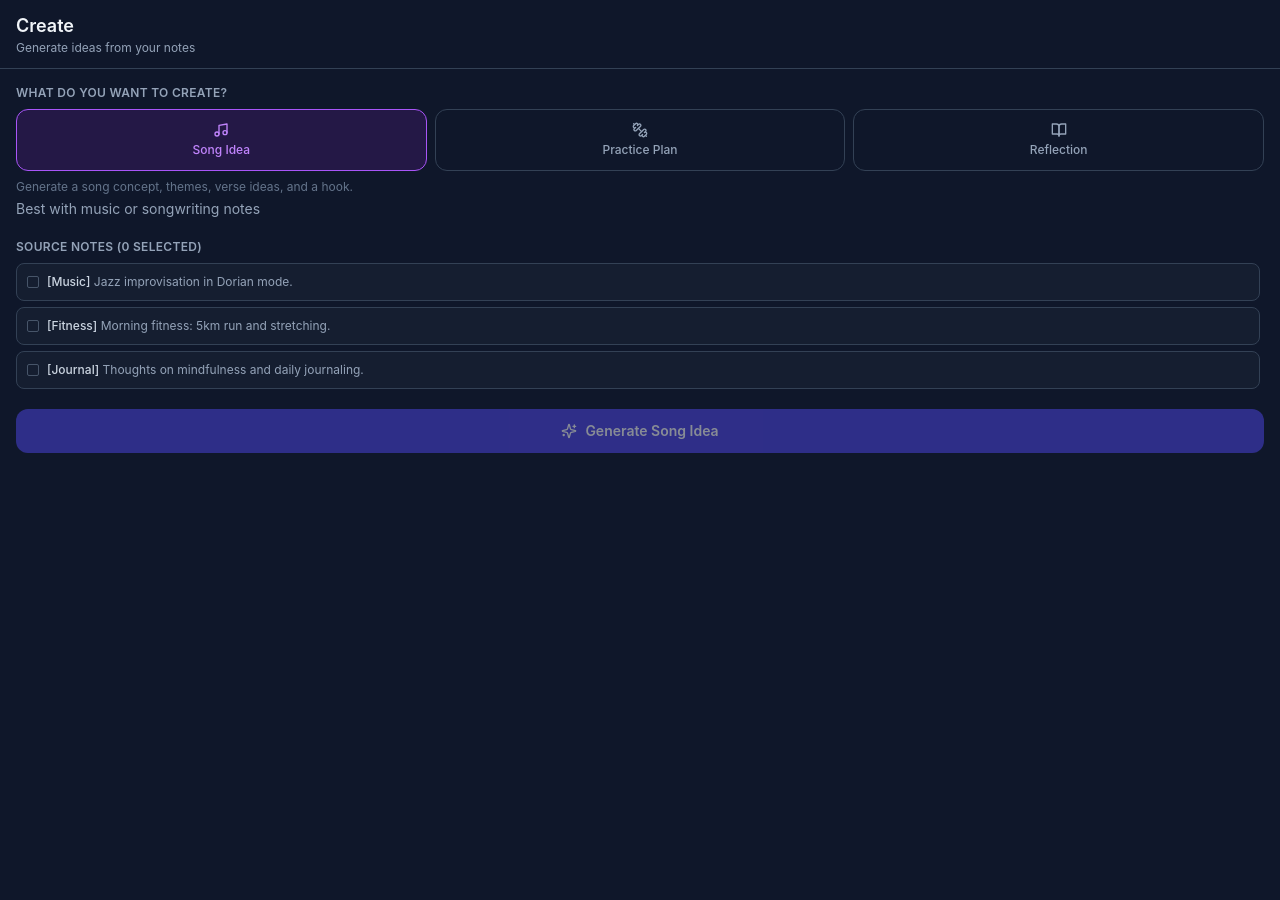
Test: CreatePage (Task 5.3) › renders Copy / Regenerate / Save as Note buttons after generation
Click the button "[Music] Jazz improvisation in Dorian mode.".
click(69, 282)  # box x1=16 y1=263 x2=1260 y2=301
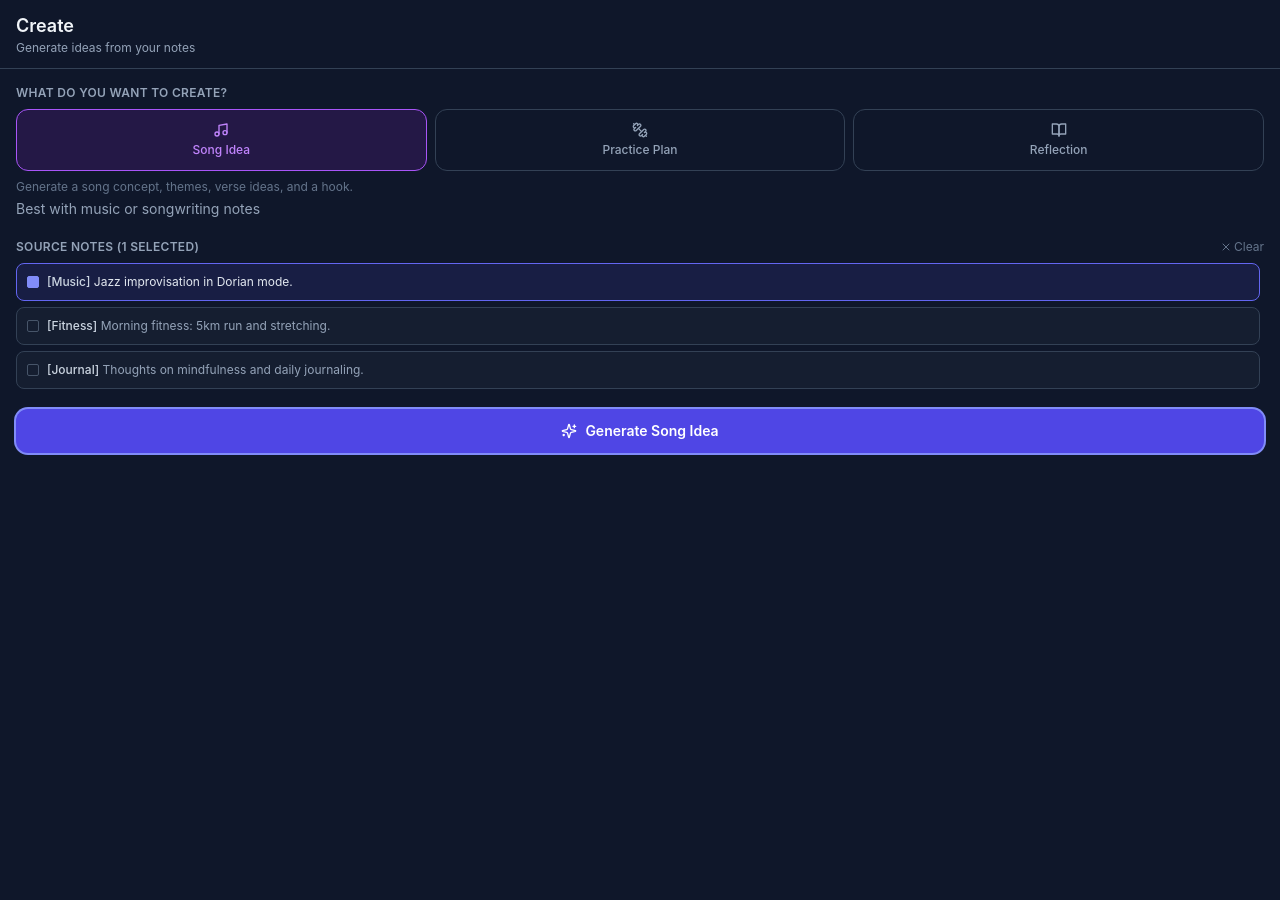
Click the button "Generate Song Idea".
click(640, 431)  # box x1=16 y1=409 x2=1264 y2=453
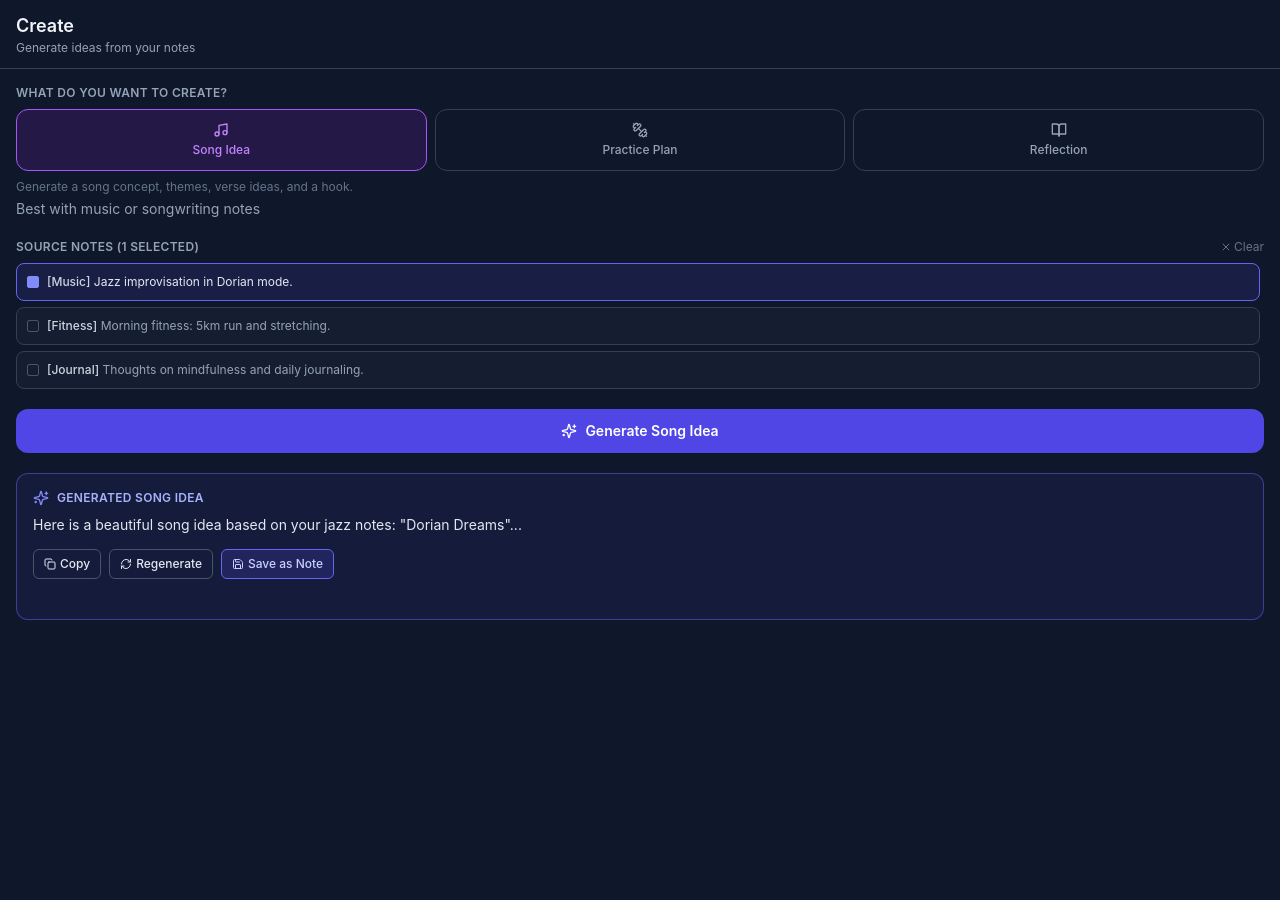
Expected: the text "Dorian Dreams" is shown, x1=33 y1=516 x2=522 y2=533
Expected: the button "Copy" is shown, x1=33 y1=549 x2=101 y2=579
Expected: the button "Regenerate" is shown, x1=109 y1=549 x2=213 y2=579
